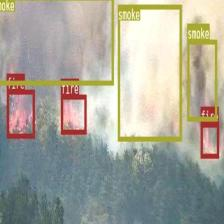fire: (7, 89, 34, 138), (60, 94, 86, 133), (200, 122, 219, 157)
smoke: (0, 0, 113, 84), (118, 4, 181, 140), (187, 39, 217, 120)
